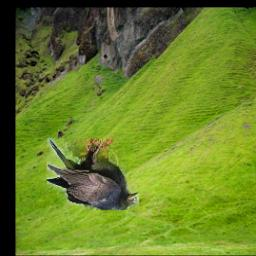Crow: (48, 138, 140, 210)
